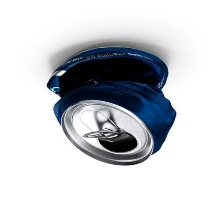can: (37, 38, 181, 175)
